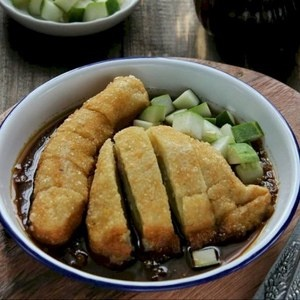pempek: (28, 74, 274, 264)
